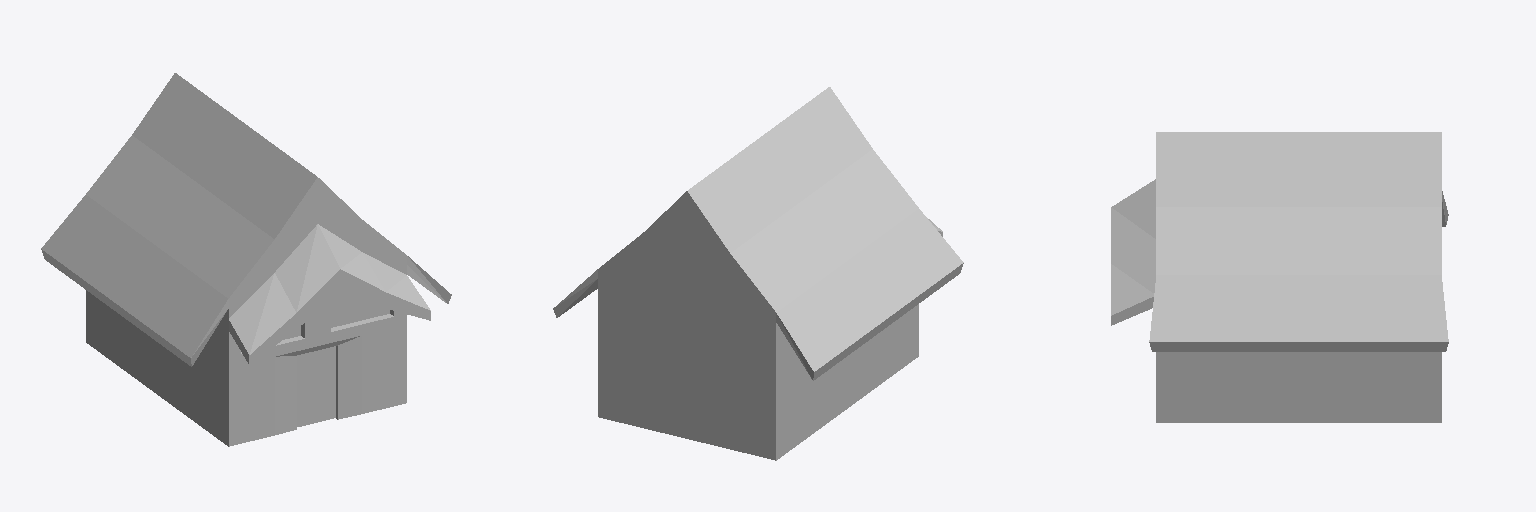
Rendered from Building2.obj.
3 renders of one model, left to right at view 1: azimuth 30°, elevation 25°; view 2: azimuth 150°, elevation 25°; view 3: azimuth 270°, elevation 25°, orthographic.
Visible parts, largest first — view 1: Building2_Cube.003; view 2: Building2_Cube.003; view 3: Building2_Cube.003.
Boxes of the visible parts, x1=… form: Building2_Cube.003: x1=41, y1=73, x2=451, y2=446; Building2_Cube.003: x1=553, y1=87, x2=963, y2=460; Building2_Cube.003: x1=1111, y1=132, x2=1448, y2=422.
Bounding box in the file's own units: 8.9 × 8.11 × 9.98.